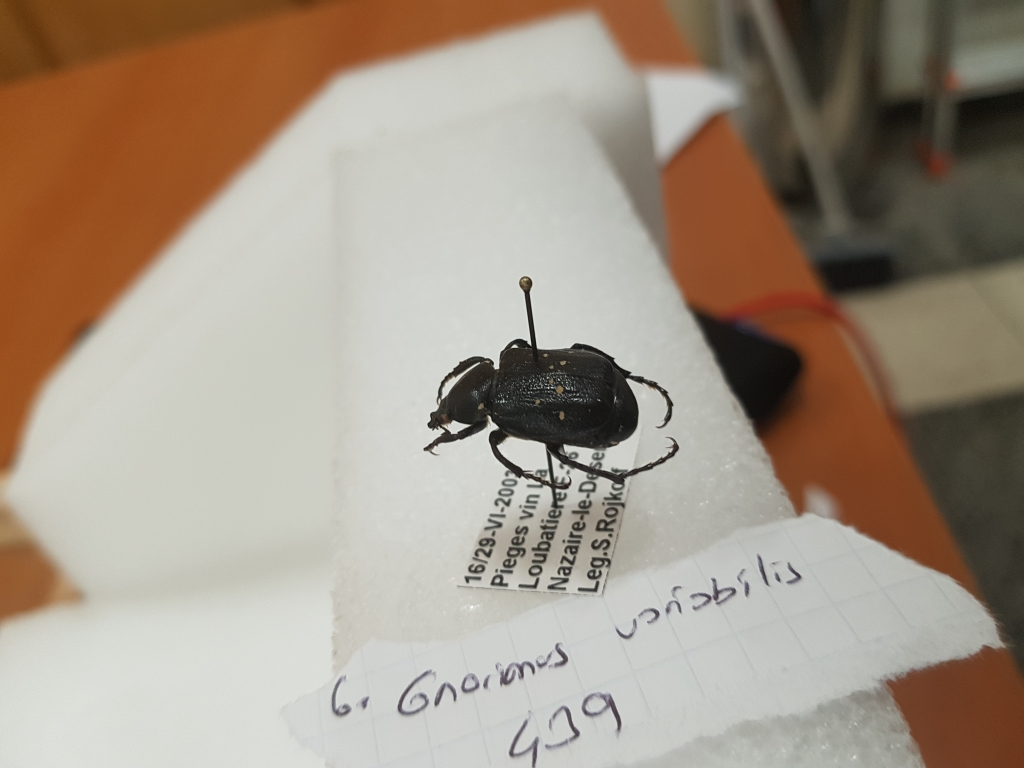Gnorimus_variabilis: (422, 332, 689, 497)
